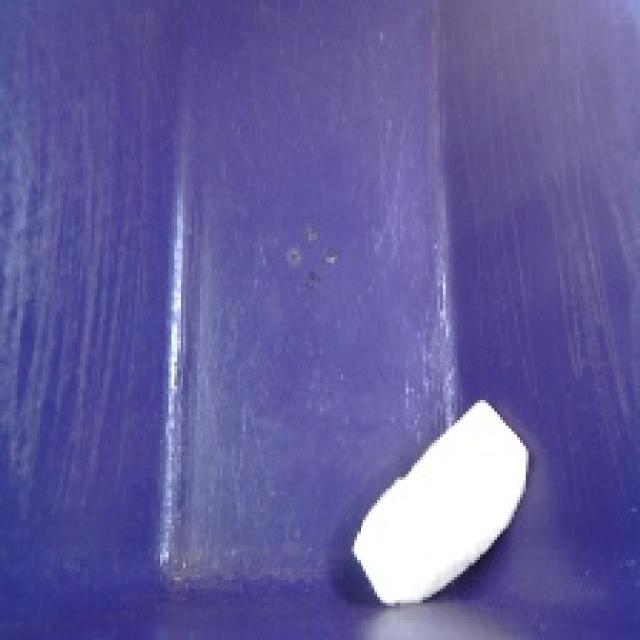white_radish: (338, 394, 539, 616)
